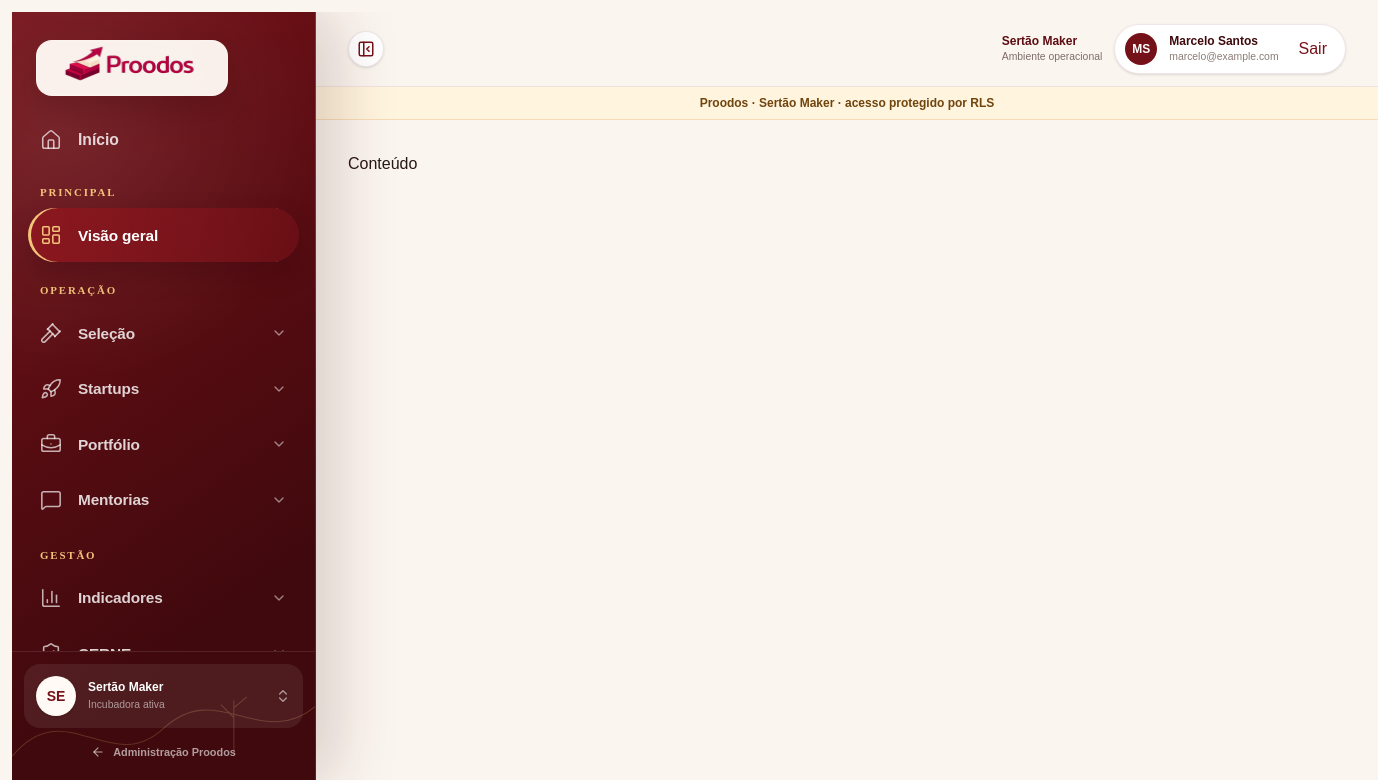
AppShell navigation › recolhe e reabre o menu lateral no desktop
The image size is (1378, 780).
Click the button named "Esconder menu lateral" at {"x": 366, "y": 49}, box [348,31,384,67]
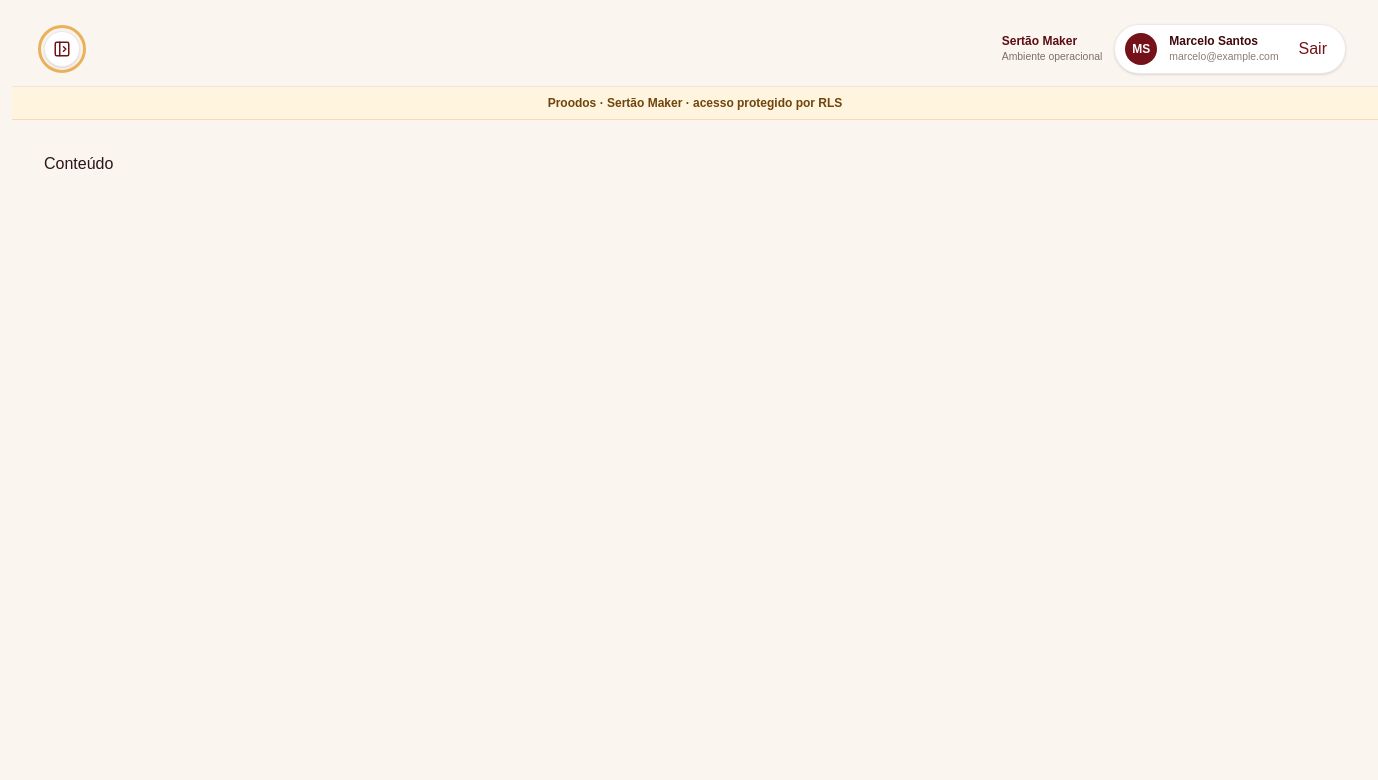
Expected: the button named "Mostrar menu lateral" is collapsed
Click the button named "Mostrar menu lateral" at {"x": 62, "y": 49}, box [44,31,80,67]
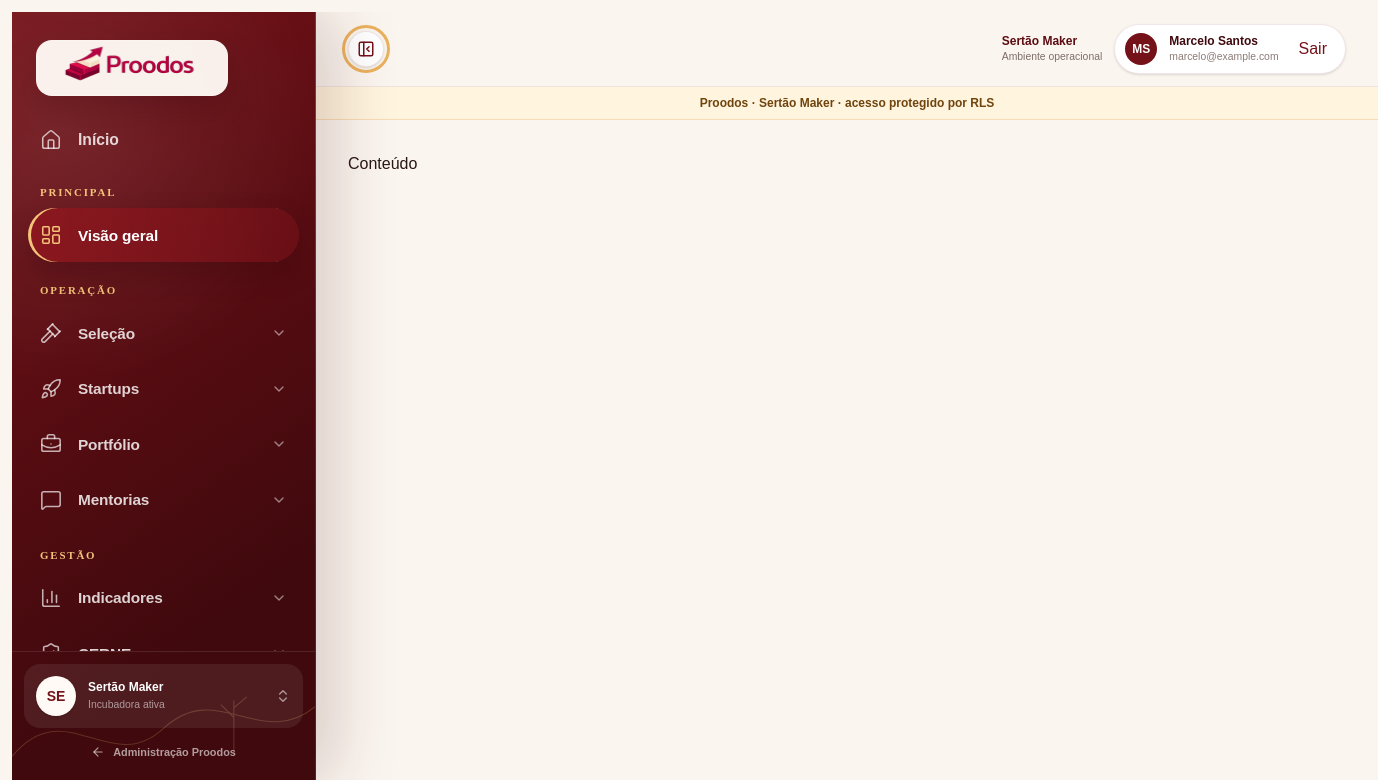
Expected: the button named "Esconder menu lateral" is expanded, [348,31,384,67]
